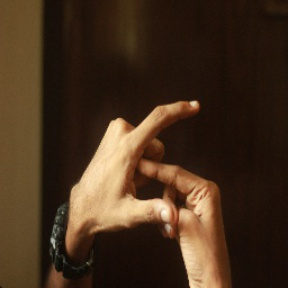E: (120, 94, 210, 231)
